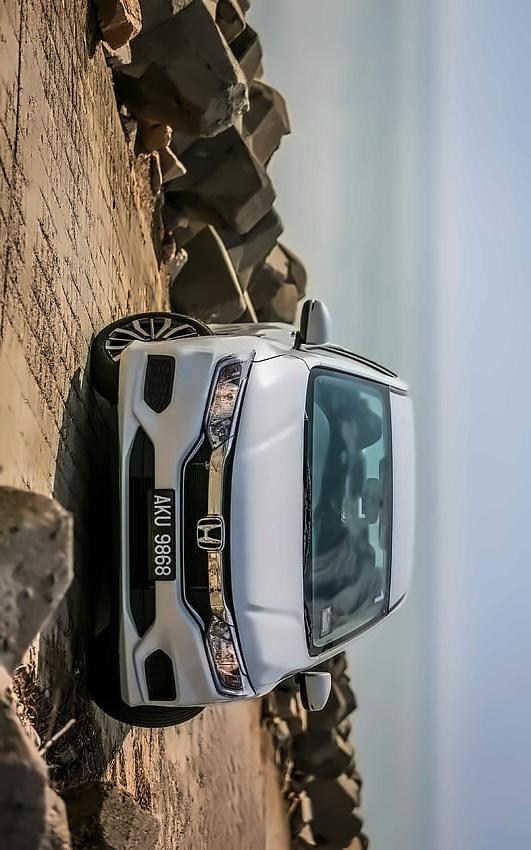Car hood: (227, 354, 310, 700)
Front bumper: (113, 333, 266, 711)
Headlight - -L-: (204, 613, 255, 699)
Headlight - -R-: (202, 350, 256, 449)
Side mirror - -L-: (293, 667, 332, 714)
Side mirror - -R-: (291, 299, 333, 352)
